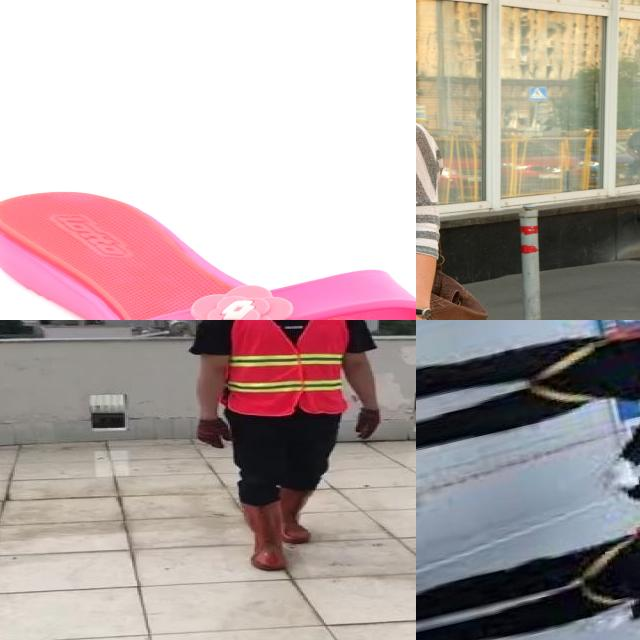Harness: (517, 320, 640, 427), (568, 499, 640, 619)
Sandals: (0, 190, 416, 320)
boots: (242, 502, 288, 571), (284, 489, 320, 544)
person: (185, 320, 393, 582)
vest: (226, 320, 347, 415)
